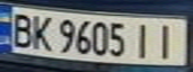0: (90, 19, 109, 57)
5: (106, 19, 130, 58)
6: (72, 18, 93, 56)
9: (54, 16, 75, 55)
B: (6, 10, 36, 48)
I: (151, 20, 184, 60), (127, 20, 157, 58)
K: (27, 12, 57, 52)
